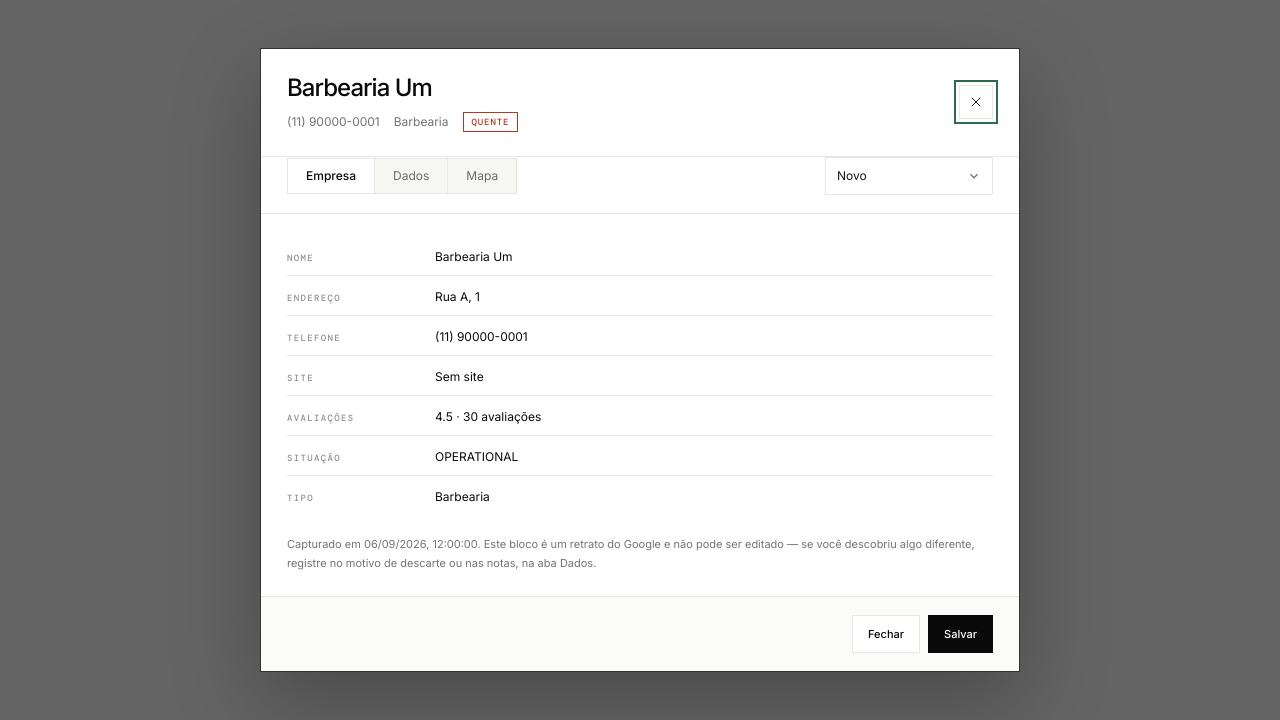
Scenario: LeadModal › pede motivo ao descartar
Click the tab "Dados".
click(411, 176)  # box [374,159,447,193]
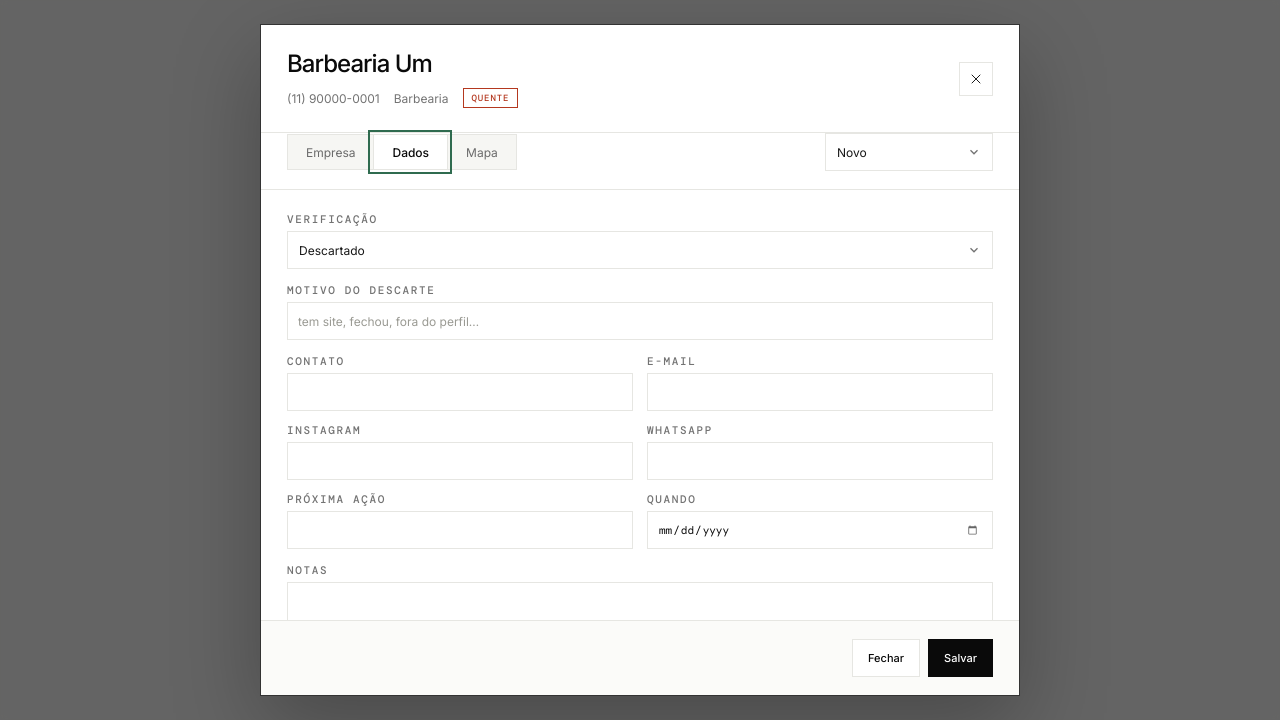
Click the button "Salvar".
click(960, 658)  # box [928,639,993,677]
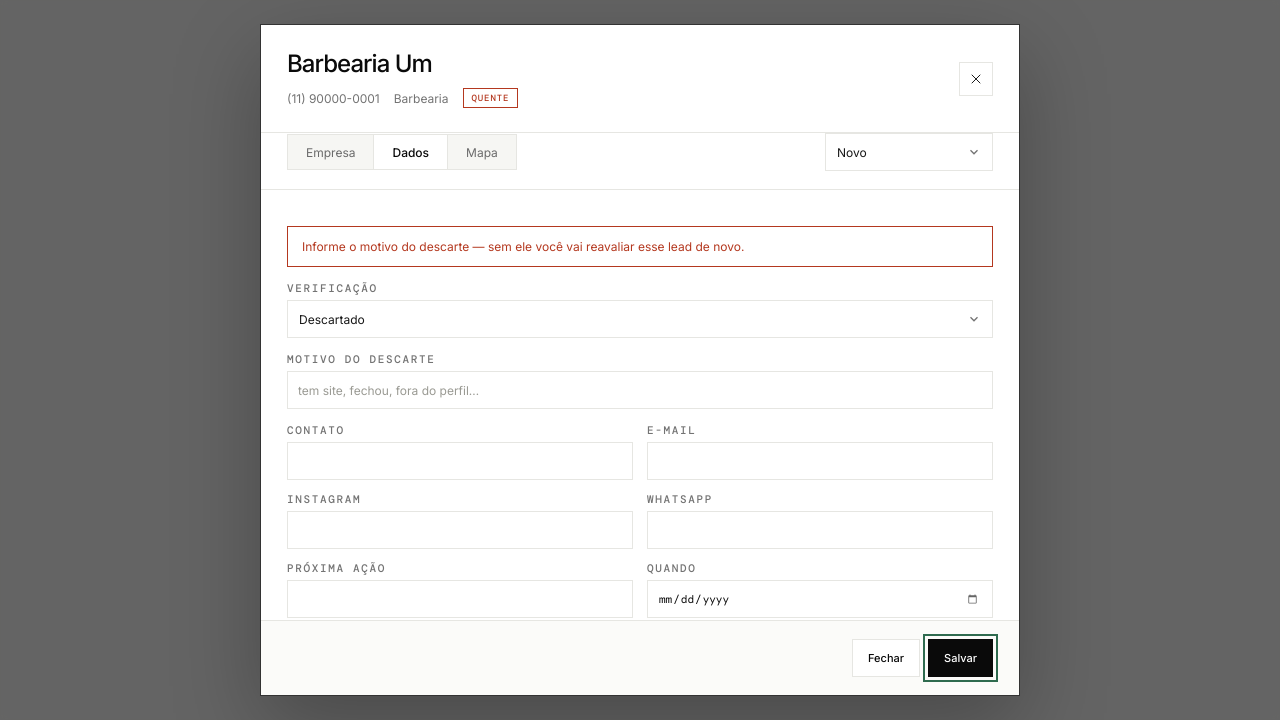
Expected: the message shows "Informe o motivo", [302,239,744,254]
